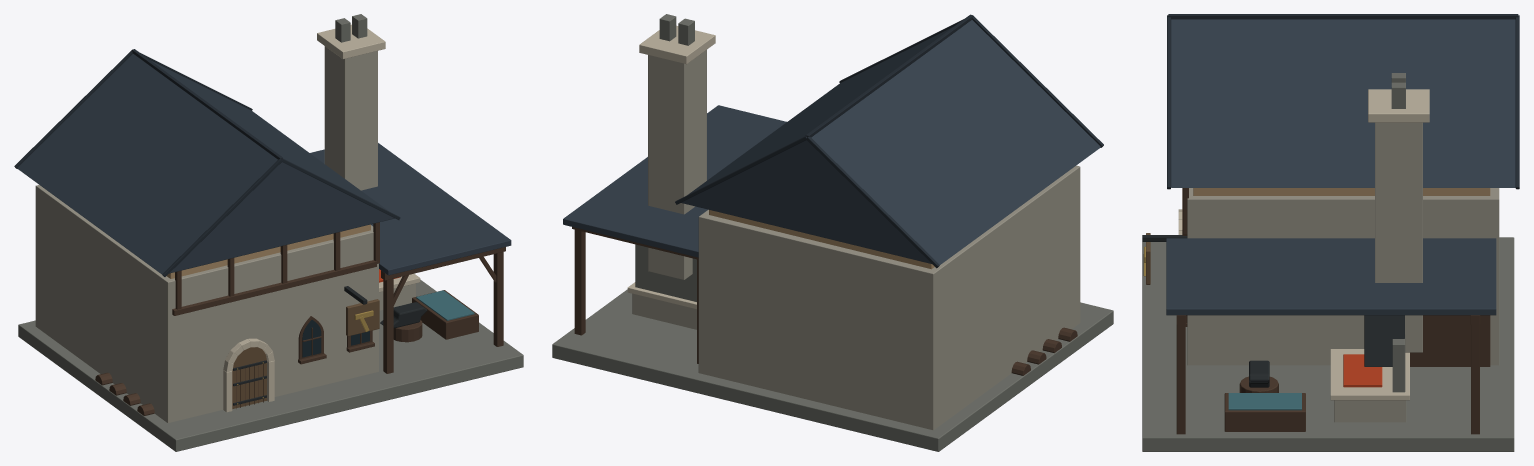
The model's file is Blacksmith.fbx.
The picture shows the model from 3 angles, left to right: view 1: azimuth 30°, elevation 25°; view 2: azimuth 150°, elevation 25°; view 3: azimuth 270°, elevation 25°; orthographic projection. The views are drawn at different scales.
Visible parts, largest first — view 1: Blacksmith workshop roof.001, Blacksmith stone workshop.001, Blacksmith foundation.001, Blacksmith open bay roof.001, Blacksmith chimney shaft.001, Ironbound oak gate.002, Blacksmith upper beam.001, Blacksmith chimney cap.001, Blacksmith quenching trough.001, Blacksmith timber upper wall.001, Blacksmith open bay post.004, Blacksmith open bay post.006 (+9 smaller); view 2: Blacksmith stone workshop.001, Blacksmith workshop roof.001, Blacksmith foundation.001, Blacksmith chimney shaft.001, Blacksmith open bay roof.001, Blacksmith forge back.001, Blacksmith chimney cap.001, Blacksmith forge masonry base.001, Blacksmith timber upper wall.001, Blacksmith open bay post.007, Blacksmith workshop roof ridge.001, Blacksmith workshop roof bargeboard.006 (+3 smaller); view 3: Blacksmith workshop roof.001, Blacksmith foundation.001, Blacksmith open bay roof.001, Blacksmith stone workshop.001, Blacksmith chimney shaft.001, Blacksmith tool rack.001, Blacksmith forge slab.001, Blacksmith workshop roof ridge.001, Blacksmith timber upper wall.001, Blacksmith quenching trough.001, Blacksmith chimney cap.001, Blacksmith iron smoke hood.001 (+11 smaller).
Boxes of the visible parts, bbox=[...] form: Blacksmith workshop roof.001: bbox=[17, 54, 394, 274]; Blacksmith stone workshop.001: bbox=[35, 185, 378, 422]; Blacksmith foundation.001: bbox=[18, 279, 523, 451]; Blacksmith open bay roof.001: bbox=[310, 143, 511, 275]; Blacksmith chimney shaft.001: bbox=[324, 46, 377, 190]; Ironbound oak gate.002: bbox=[232, 347, 266, 408]; Blacksmith upper beam.001: bbox=[172, 260, 376, 315]; Blacksmith chimney cap.001: bbox=[317, 24, 385, 59]; Blacksmith quenching trough.001: bbox=[412, 290, 478, 339]; Blacksmith timber upper wall.001: bbox=[167, 224, 370, 278]; Blacksmith open bay post.004: bbox=[383, 278, 393, 373]; Blacksmith open bay post.006: bbox=[493, 252, 503, 346]; Blacksmith stone workshop.001: bbox=[698, 165, 1080, 430]; Blacksmith workshop roof.001: bbox=[681, 20, 1100, 264]; Blacksmith foundation.001: bbox=[552, 289, 1113, 451]; Blacksmith chimney shaft.001: bbox=[648, 50, 706, 279]; Blacksmith open bay roof.001: bbox=[563, 105, 786, 257]; Blacksmith forge back.001: bbox=[635, 244, 696, 301]; Blacksmith chimney cap.001: bbox=[639, 25, 715, 64]; Blacksmith forge masonry base.001: bbox=[632, 293, 696, 329]; Blacksmith timber upper wall.001: bbox=[709, 210, 934, 269]; Blacksmith open bay post.007: bbox=[574, 229, 585, 335]; Blacksmith workshop roof ridge.001: bbox=[805, 14, 973, 137]; Blacksmith workshop roof bargeboard.006: bbox=[806, 137, 939, 268]; Blacksmith workshop roof.001: bbox=[1171, 19, 1515, 187]; Blacksmith foundation.001: bbox=[1142, 237, 1514, 451]; Blacksmith open bay roof.001: bbox=[1166, 238, 1496, 315]; Blacksmith stone workshop.001: bbox=[1187, 188, 1499, 365]; Blacksmith chimney shaft.001: bbox=[1375, 122, 1422, 352]; Blacksmith tool rack.001: bbox=[1410, 315, 1490, 366]; Blacksmith forge slab.001: bbox=[1330, 349, 1409, 400]; Blacksmith workshop roof ridge.001: bbox=[1168, 14, 1518, 19]; Blacksmith timber upper wall.001: bbox=[1193, 188, 1490, 195]; Blacksmith quenching trough.001: bbox=[1224, 393, 1305, 431]; Blacksmith chimney cap.001: bbox=[1368, 89, 1429, 122]; Blacksmith iron smoke hood.001: bbox=[1364, 315, 1404, 366].
Size of the model in its own units: 15.88 by 12.32 by 12.58.
